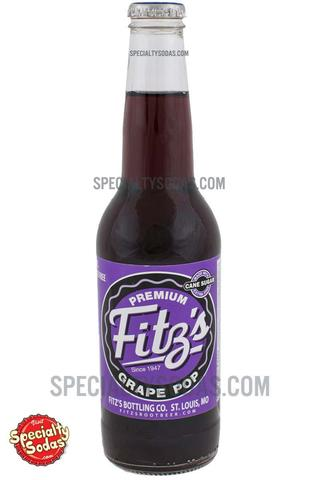Rec_Glass: (82, 1, 236, 475)
